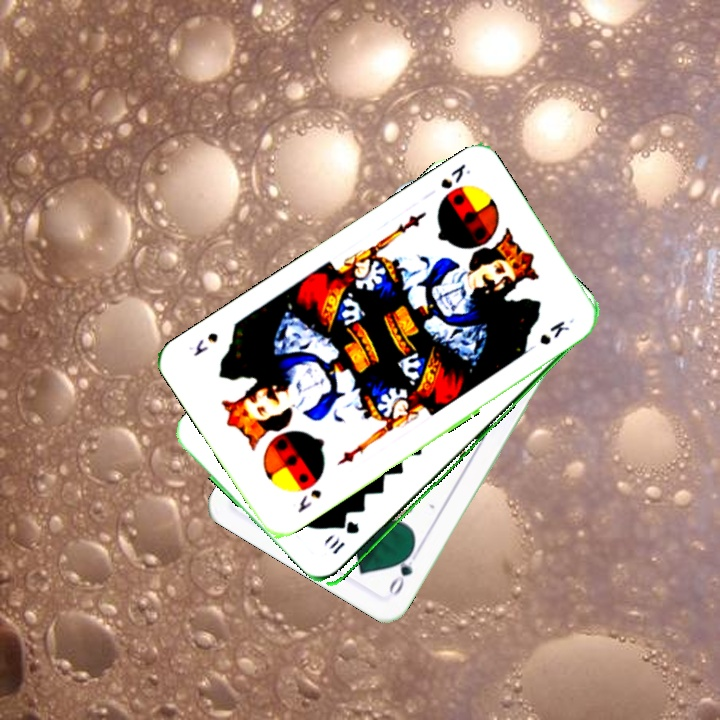G10: (328, 519, 362, 557)
GO: (384, 543, 422, 598)
SK: (436, 159, 473, 192), (293, 485, 324, 516)
